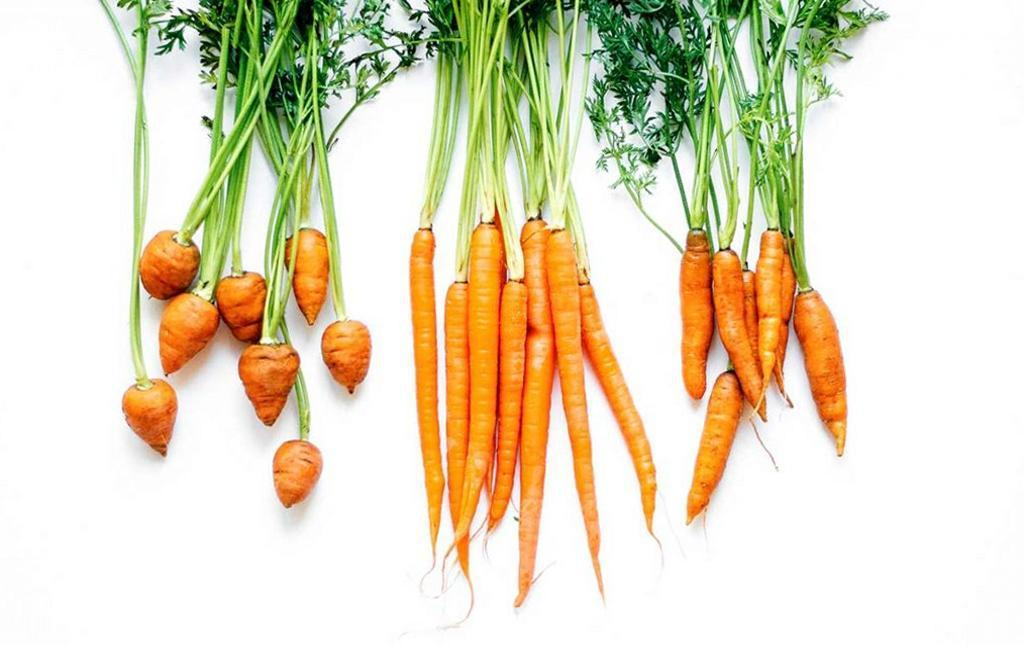carrot: (395, 213, 662, 601), (93, 205, 375, 517), (676, 220, 865, 525), (318, 321, 408, 409), (157, 296, 247, 375), (223, 339, 315, 413), (125, 365, 192, 452), (128, 229, 193, 314), (218, 268, 282, 353), (285, 234, 341, 321), (266, 436, 336, 501)
